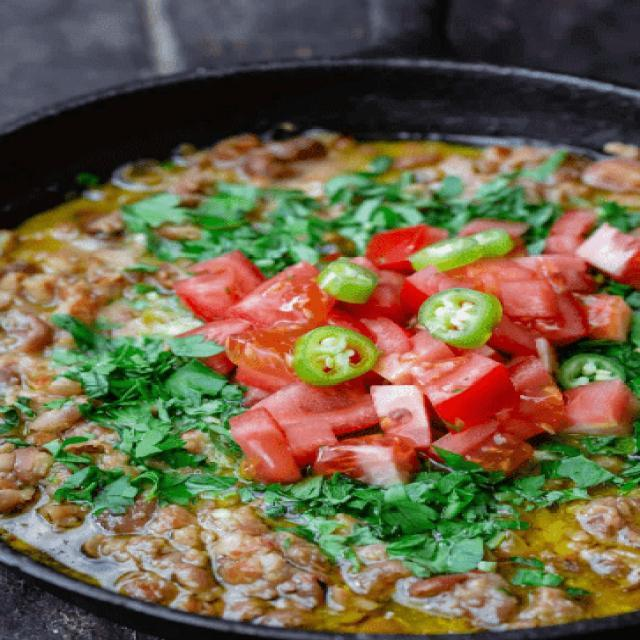fool: (7, 120, 639, 629)
